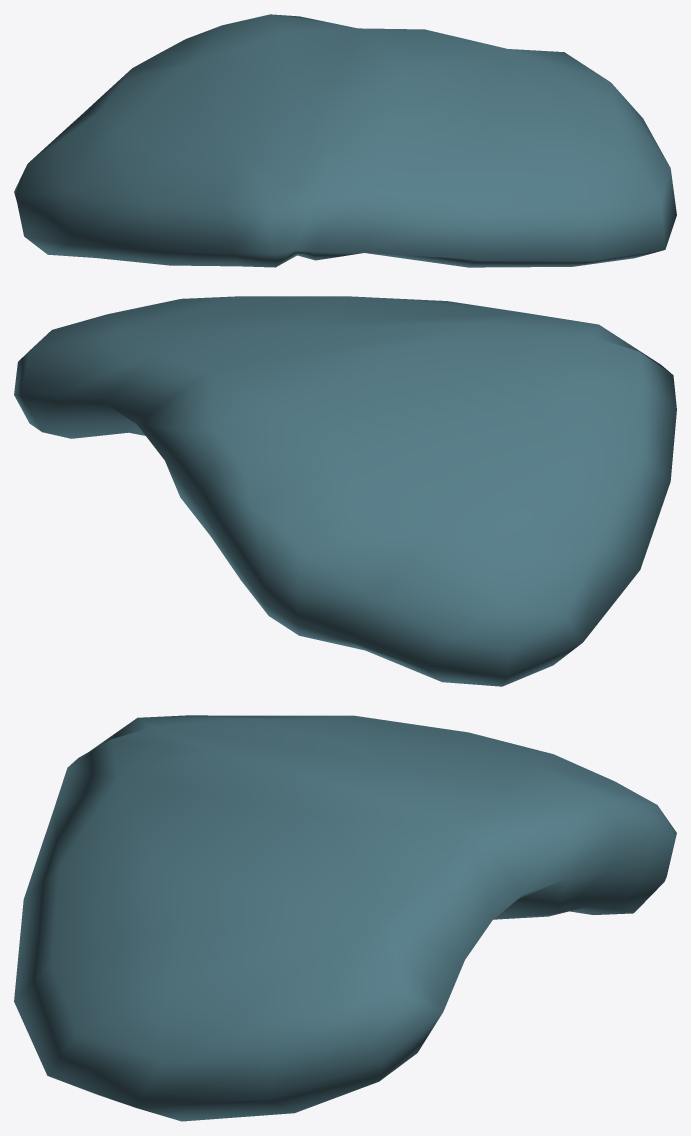
Rendered from Extensor_digitorum_5th_middle_phalanx_right.glb.
The picture shows the model from 3 angles, top to bottom: view 1: azimuth 30°, elevation 25°; view 2: azimuth 150°, elevation 25°; view 3: azimuth 270°, elevation 25°; orthographic projection. The views are drawn at different scales.
Visible parts, largest first — view 1: Extensor_digitorum_on_5th_middle_phalanx.r_Generated_Mesh_Fr; view 2: Extensor_digitorum_on_5th_middle_phalanx.r_Generated_Mesh_Fr; view 3: Extensor_digitorum_on_5th_middle_phalanx.r_Generated_Mesh_Fr.
Part boxes in pixels (left/top/right/bottom): Extensor_digitorum_on_5th_middle_phalanx.r_Generated_Mesh_Fr: left=14, top=14, right=676, bottom=267; Extensor_digitorum_on_5th_middle_phalanx.r_Generated_Mesh_Fr: left=14, top=296, right=676, bottom=686; Extensor_digitorum_on_5th_middle_phalanx.r_Generated_Mesh_Fr: left=14, top=715, right=676, bottom=1121.
Bounding box in the file's own units: 0.00292 × 0.000883 × 0.00252.
